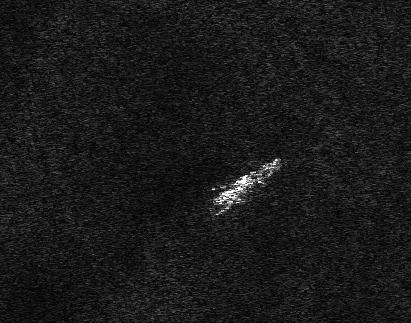ship: (209, 157, 284, 216)
